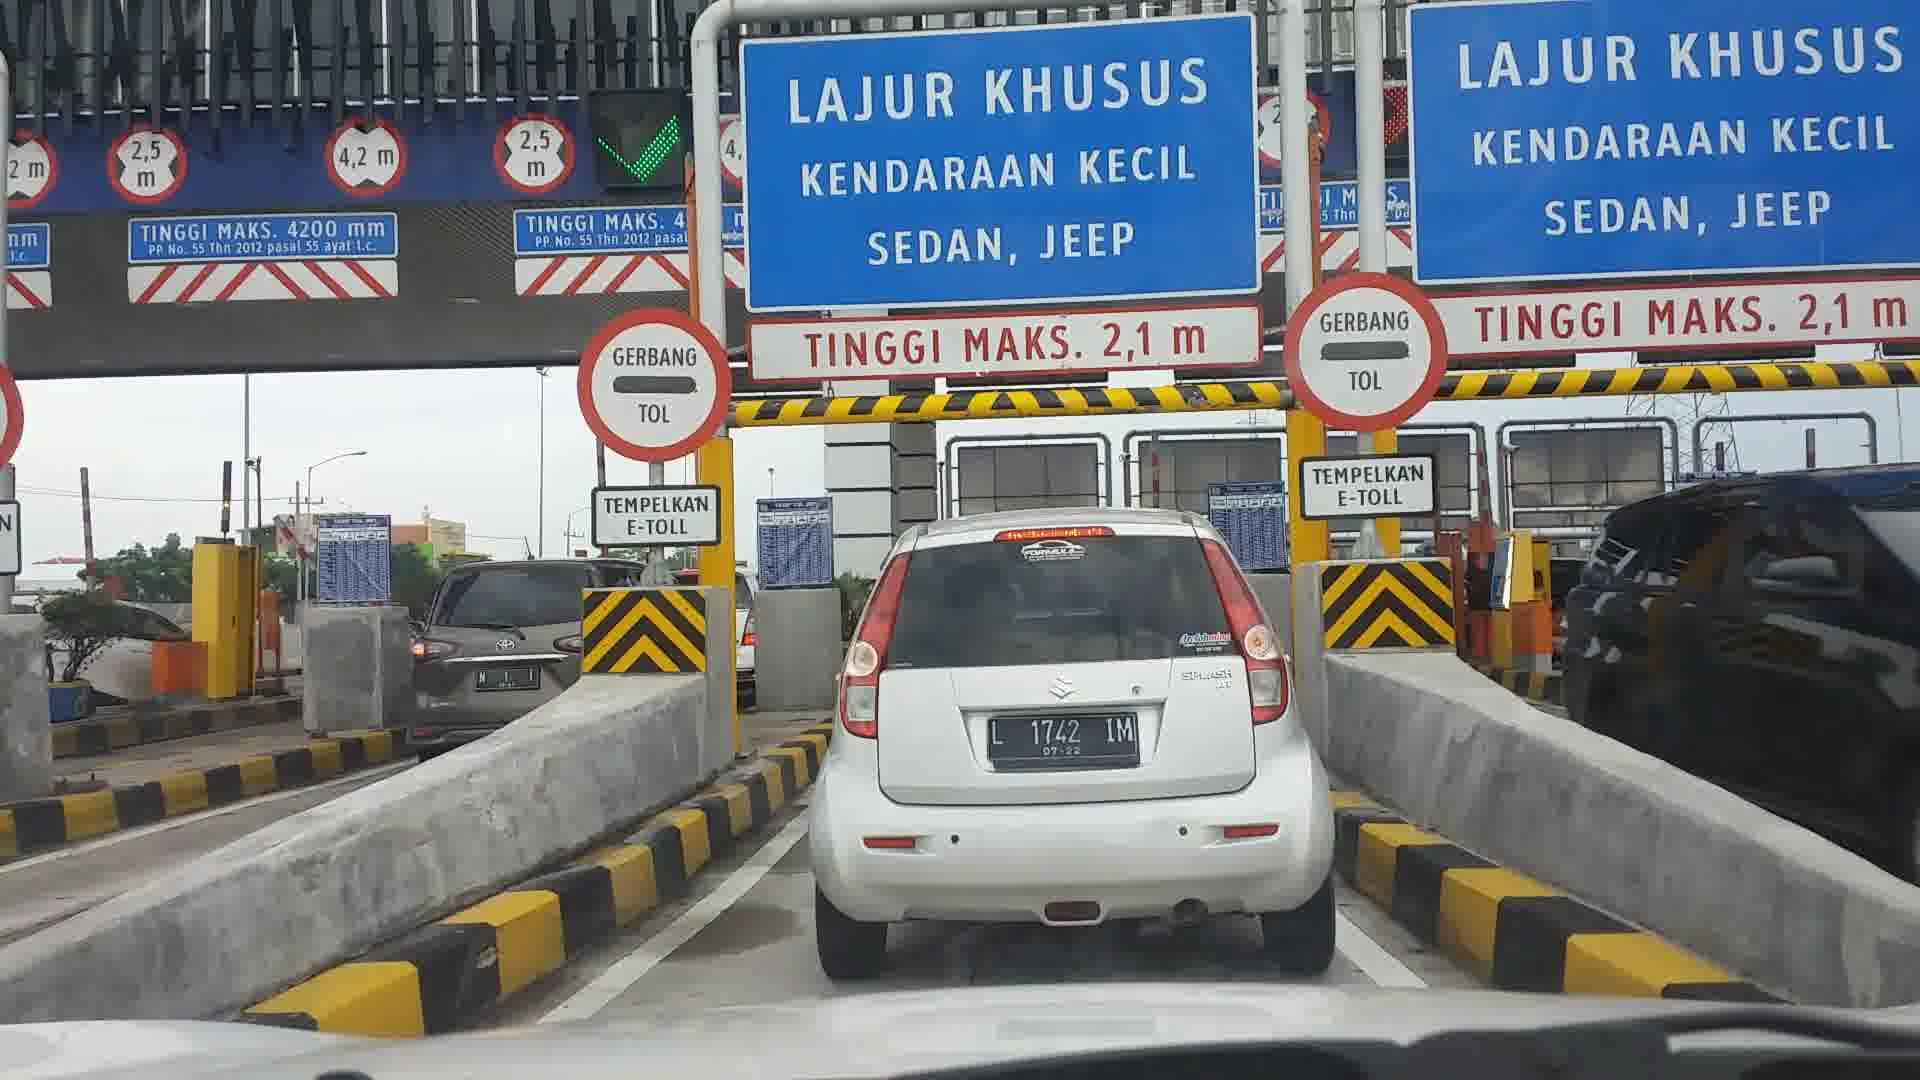plate_positive: (988, 713, 1138, 771), (476, 667, 541, 690)
